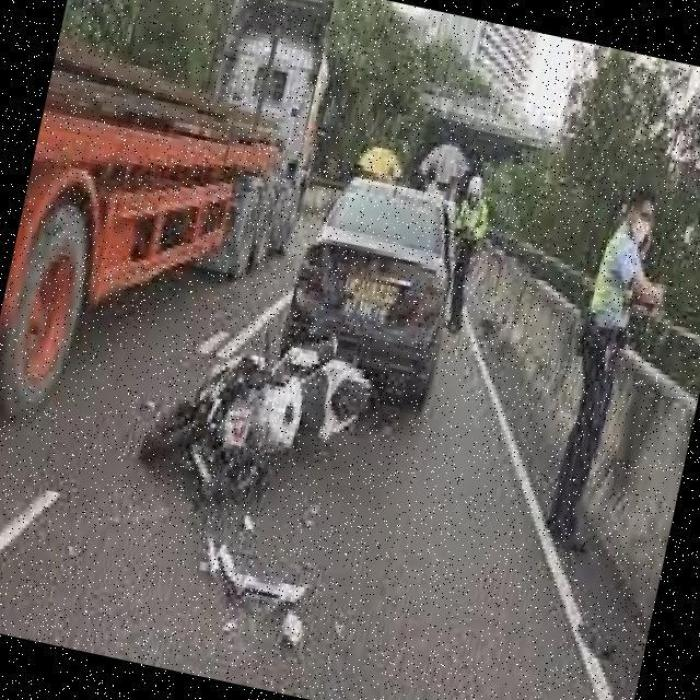Accident: (142, 290, 447, 572)
